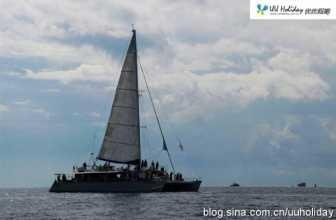fanchuan: (43, 32, 214, 199)
